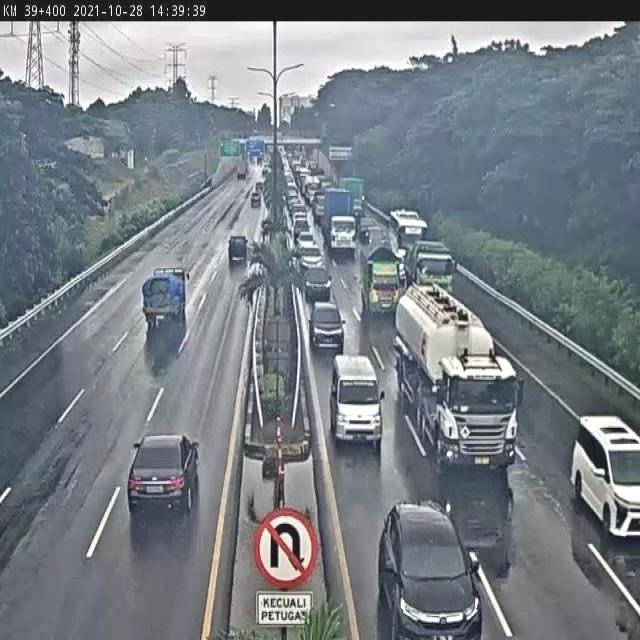Car: (376, 500, 484, 637), (570, 415, 640, 537), (127, 431, 201, 532), (332, 353, 382, 459), (309, 300, 345, 352), (303, 266, 332, 304), (228, 235, 248, 265), (250, 191, 260, 207)
Truck: (386, 269, 531, 505), (139, 256, 194, 344), (369, 250, 409, 329), (406, 240, 455, 293)
